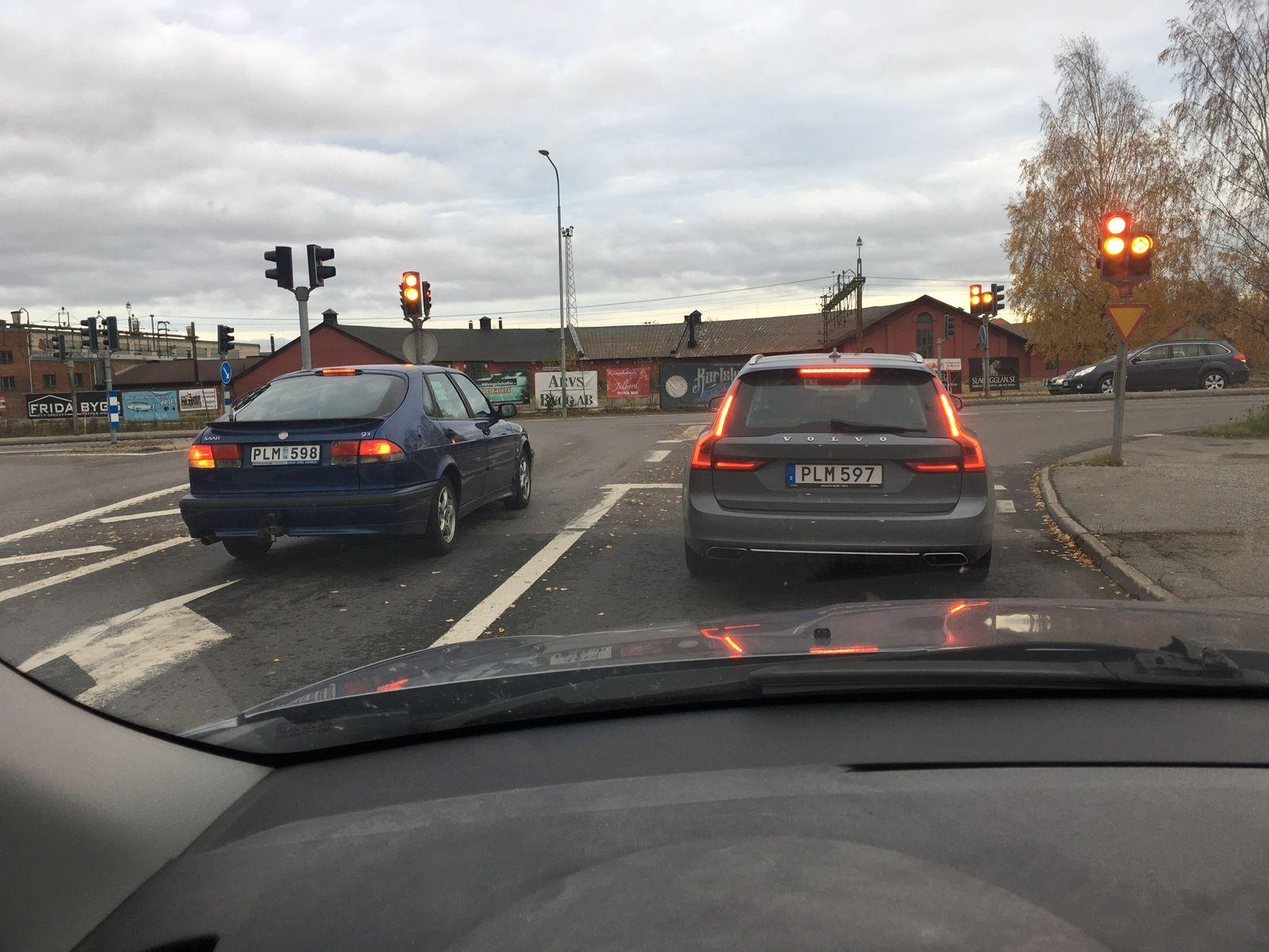license-plates: (789, 464, 884, 486), (250, 445, 319, 464)
